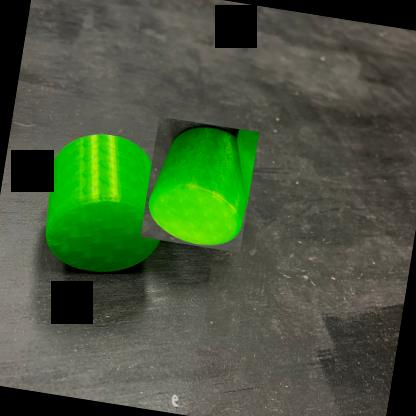green cylinder: (34, 123, 178, 283), (140, 116, 258, 253)
